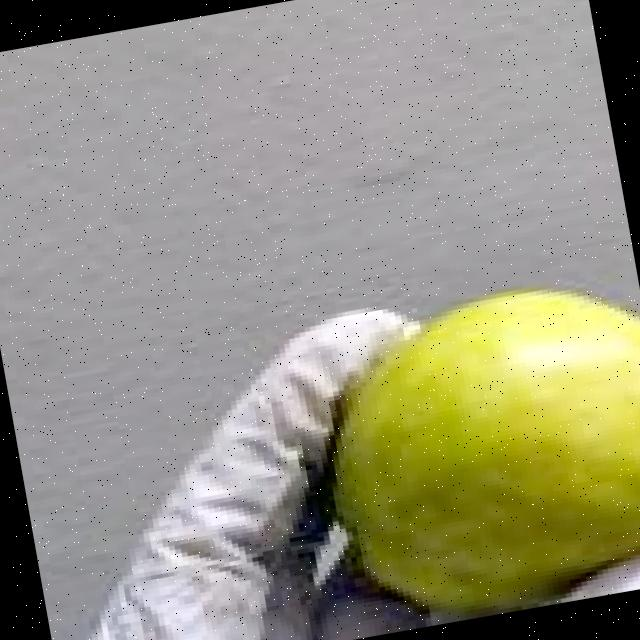Good_Guava 5-7 days: (322, 292, 640, 624)
